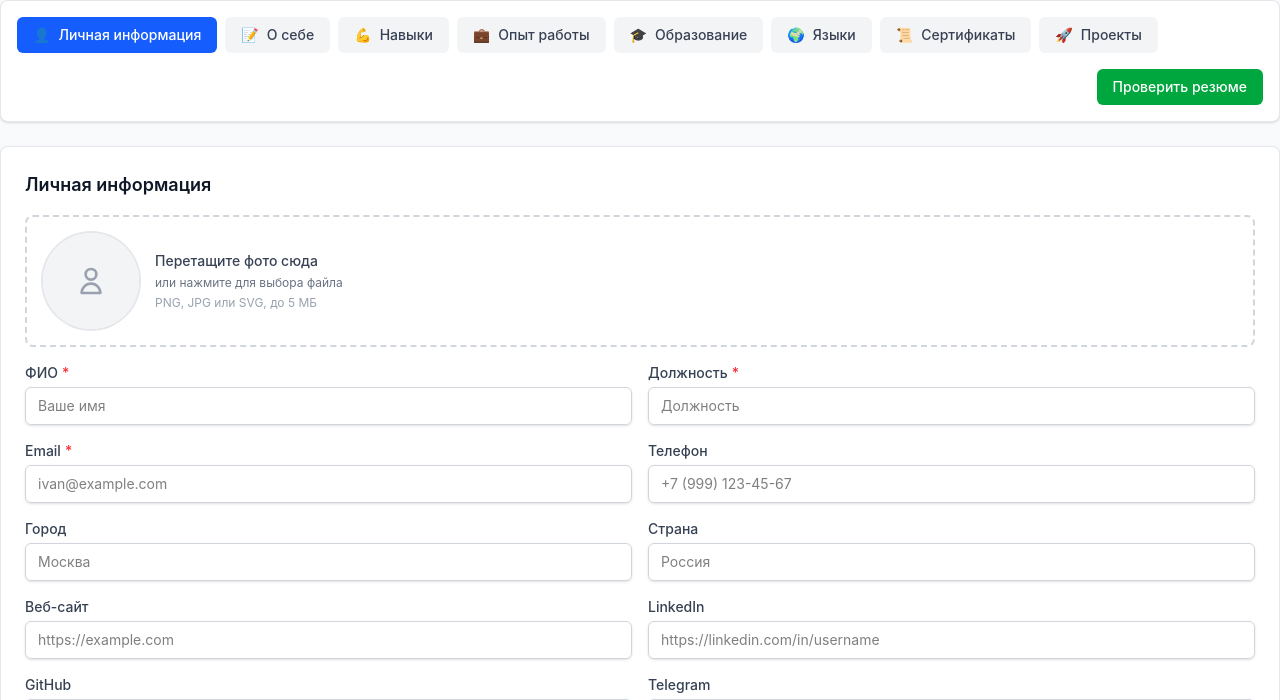
Test case: EditorPanel › should switch to experience section
What coordinates should you click on to do the following:
click the button "💼Опыт работы"
I would click on:
 (531, 35)
Its box is [457,17,606,53].
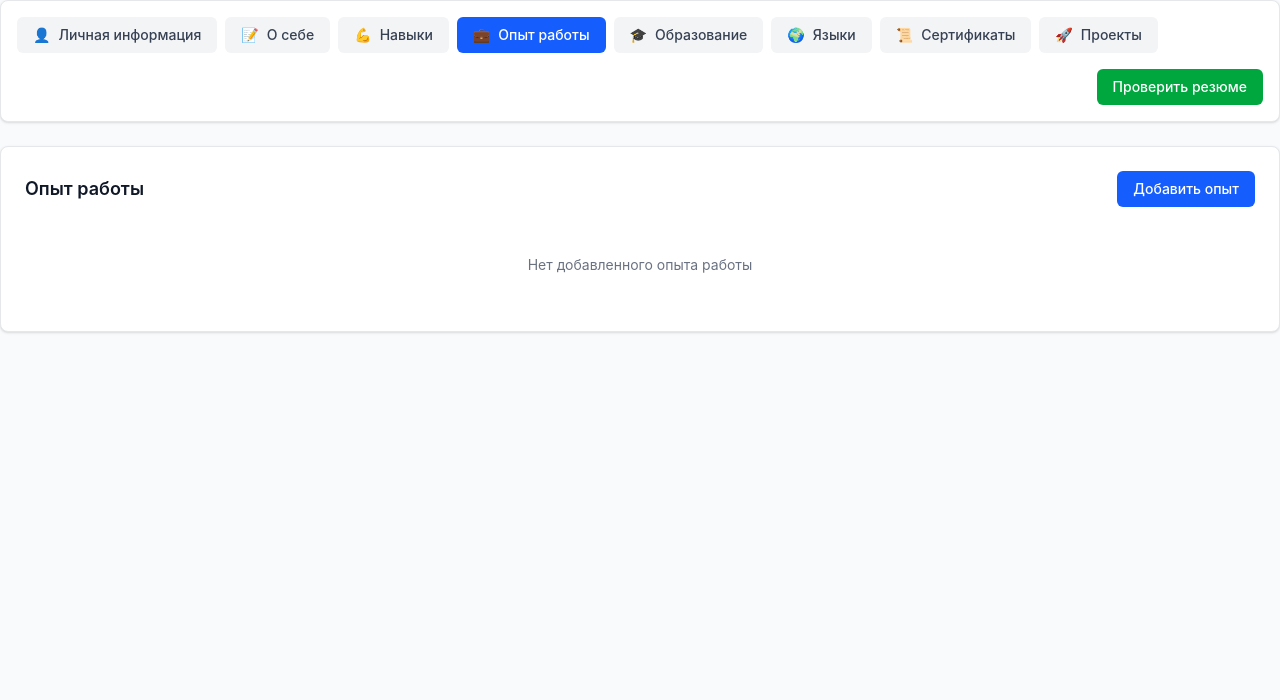
Check: the text "Нет добавленного опыта работы" is shown, box [528,256,752,273]
